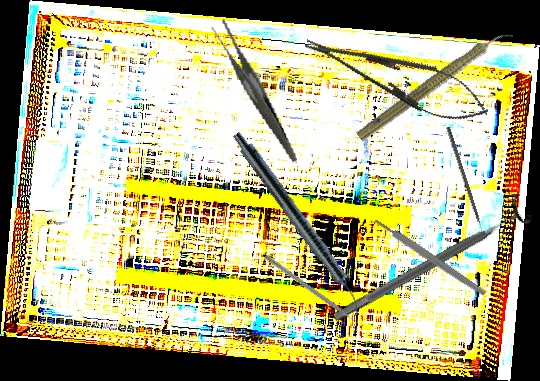Chopper: (260, 254, 363, 333)
Dressing Forceps: (209, 10, 298, 173)
Fixation Ring: (325, 191, 536, 334)
Handpiece: (226, 129, 371, 317), (354, 22, 516, 148)
Hook Surgical: (445, 126, 485, 237)
Needle Holder: (297, 19, 497, 135)
Scalpel Handle: (373, 216, 487, 298)
